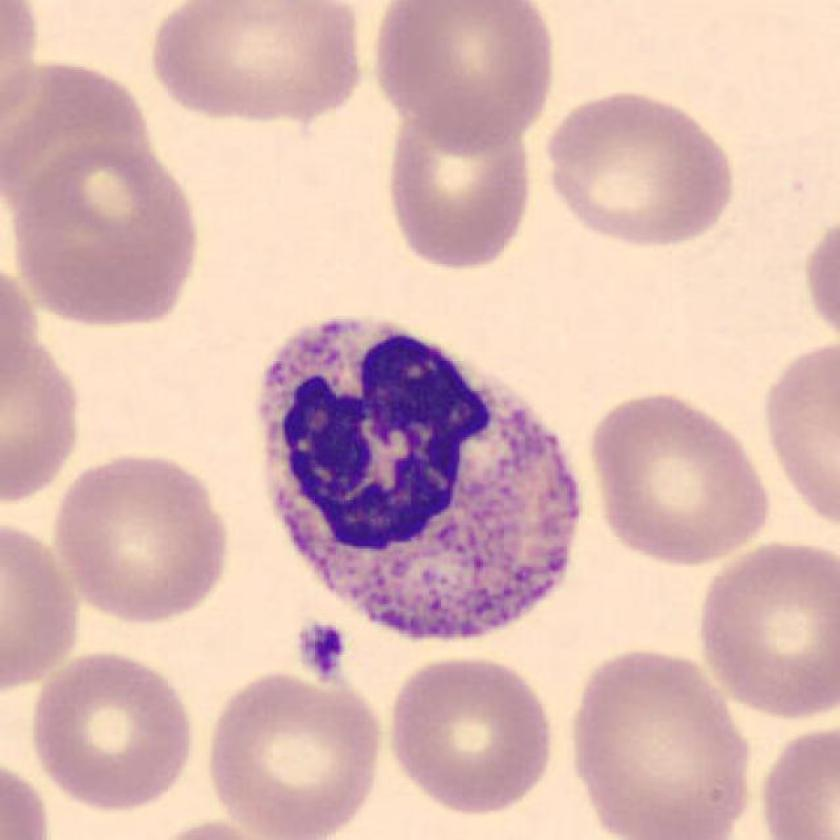neutrophil: (262, 326, 576, 639)
